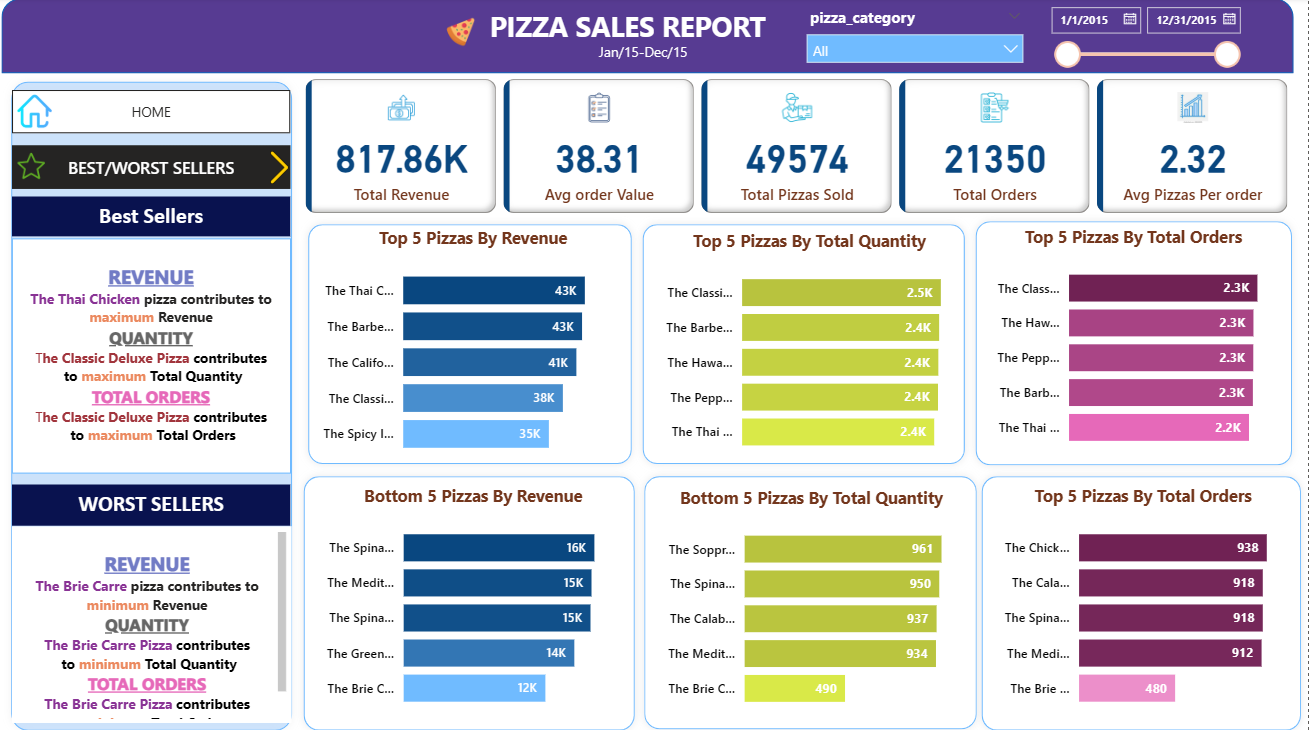

The dashboard page shown, as its layout file describes it:
{"tool":"powerbi","page":{"name":"BEST/WORST SELLERS","canvas":[1280,720],"ordinal":1},"visuals":[{"type":"shape","box":[14.3,74.3,288.6,645.7],"z":0},{"type":"cardVisual","fields":{"Data":["pizzadb pizza_sales_dup.Total Revenue","pizzadb pizza_sales_dup.Avg order Value","pizzadb pizza_sales_dup.Total Pizzas Sold","pizzadb pizza_sales_dup.Total Orders","pizzadb pizza_sales_dup.Avg Pizzas Per order"]},"box":[302.9,74.3,964.3,140],"z":1000},{"type":"shape","box":[13.6,1.5,1253.8,72.7],"z":2000},{"type":"textbox","box":[481.4,4.3,307.1,48.6],"z":3000},{"type":"textbox","box":[581.4,37.1,110,40],"z":4000},{"type":"image","box":[437.1,14.3,44.3,38.6],"z":5000},{"type":"shape","box":[302.9,212.9,330,248.6],"z":6000},{"type":"textbox","box":[22.9,194.3,270,38.6],"z":7000},{"type":"textbox","box":[22.7,234.8,270.4,228.3],"z":8000},{"type":"textbox","box":[22.9,472.9,270,40],"z":9000},{"type":"slicer","fields":{"Values":["pizzadb pizza_sales_dup.pizza_category"]},"box":[784.4,4.5,230.2,59.1],"z":10000},{"type":"shape","box":[950,210,322.9,252.9],"z":11000},{"type":"shape","box":[627.1,212.9,328.6,248.6],"z":12000},{"type":"shape","box":[298.6,457.1,337.1,262.9],"z":13000},{"type":"shape","box":[628.6,457.1,338.6,261.4],"z":14000},{"type":"shape","box":[955.7,457.1,325.7,262.9],"z":15000},{"type":"barChart","title":"Top 5 Pizzas By Revenue","fields":{"Category":["pizzadb pizza_sales_dup.pizza_name"],"Y":["pizzadb pizza_sales_dup.Total Revenue"]},"box":[308.6,222.9,324.3,234.3],"z":16000},{"type":"barChart","title":"Top 5 Pizzas By Total Quantity","fields":{"Category":["pizzadb pizza_sales_dup.pizza_name"],"Y":["pizzadb pizza_sales_dup.Total Pizzas Sold"]},"box":[640.5,225.6,313.4,228.6],"z":17000},{"type":"barChart","title":"Bottom 5 Pizzas By Revenue","fields":{"Category":["pizzadb pizza_sales_dup.pizza_name"],"Y":["pizzadb pizza_sales_dup.Total Revenue"]},"box":[310,473.1,321.7,230],"z":18000},{"type":"barChart","title":"Bottom 5 Pizzas By Total Quantity","fields":{"Category":["pizzadb pizza_sales_dup.pizza_name"],"Y":["pizzadb pizza_sales_dup.Total Pizzas Sold"]},"box":[641.4,474.3,314.3,228.6],"z":19000},{"type":"barChart","title":"Top 5 Pizzas By Total Orders","fields":{"Category":["pizzadb pizza_sales_dup.pizza_name"],"Y":["pizzadb pizza_sales_dup.Total Orders"]},"box":[960,221.4,301.4,228.6],"z":20000},{"type":"barChart","title":"Top 5 Pizzas By Total Orders","fields":{"Category":["pizzadb pizza_sales_dup.pizza_name"],"Y":["pizzadb pizza_sales_dup.Total Orders"]},"box":[970,472.9,302.9,230],"z":21000},{"type":"textbox","box":[22.7,513.3,271,190.8],"z":22000},{"type":"pageNavigator","box":[22.7,144.1,270.4,42.1],"z":23000},{"type":"pageNavigator","box":[22.7,90.7,270.4,42.1],"z":24000},{"type":"image","box":[255.8,144.1,53.4,42.1],"z":25000},{"type":"image","box":[14.6,89.1,61.5,43.7],"z":26000},{"type":"image","box":[22.7,140.9,37.2,45.3],"z":27000},{"type":"slicer","fields":{"Values":["pizzadb pizza_sales_dup.order_date"]},"box":[1019.1,0,204.4,74.2],"z":28000}]}

Visuals, with their boxes in screenshot pixels (x1, y1, x2, y2), scaled from the page's 1280x720 canvas onto the 1309x730 screenshot:
shape: detection(15, 75, 310, 729)
cardVisual - pizzadb pizza_sales_dup.Total Revenue x pizzadb pizza_sales_dup.Avg order Value: detection(310, 75, 1296, 217)
shape: detection(14, 2, 1296, 75)
textbox: detection(492, 4, 806, 54)
textbox: detection(595, 38, 707, 78)
image: detection(447, 14, 492, 54)
shape: detection(310, 216, 647, 468)
textbox: detection(23, 197, 300, 236)
textbox: detection(23, 238, 300, 470)
textbox: detection(23, 479, 300, 520)
slicer - pizzadb pizza_sales_dup.pizza_category: detection(802, 5, 1038, 64)
shape: detection(972, 213, 1302, 469)
shape: detection(641, 216, 977, 468)
shape: detection(305, 463, 650, 729)
shape: detection(643, 463, 989, 728)
shape: detection(977, 463, 1308, 729)
"Top 5 Pizzas By Revenue" barChart: detection(316, 226, 647, 464)
"Top 5 Pizzas By Total Quantity" barChart: detection(655, 229, 976, 461)
"Bottom 5 Pizzas By Revenue" barChart: detection(317, 480, 646, 713)
"Bottom 5 Pizzas By Total Quantity" barChart: detection(656, 481, 977, 713)
"Top 5 Pizzas By Total Orders" barChart: detection(982, 224, 1290, 456)
"Top 5 Pizzas By Total Orders" barChart: detection(992, 479, 1302, 713)
textbox: detection(23, 520, 300, 714)
pageNavigator: detection(23, 146, 300, 189)
pageNavigator: detection(23, 92, 300, 135)
image: detection(262, 146, 316, 189)
image: detection(15, 90, 78, 135)
image: detection(23, 143, 61, 189)
slicer - pizzadb pizza_sales_dup.order_date: detection(1042, 0, 1251, 75)
